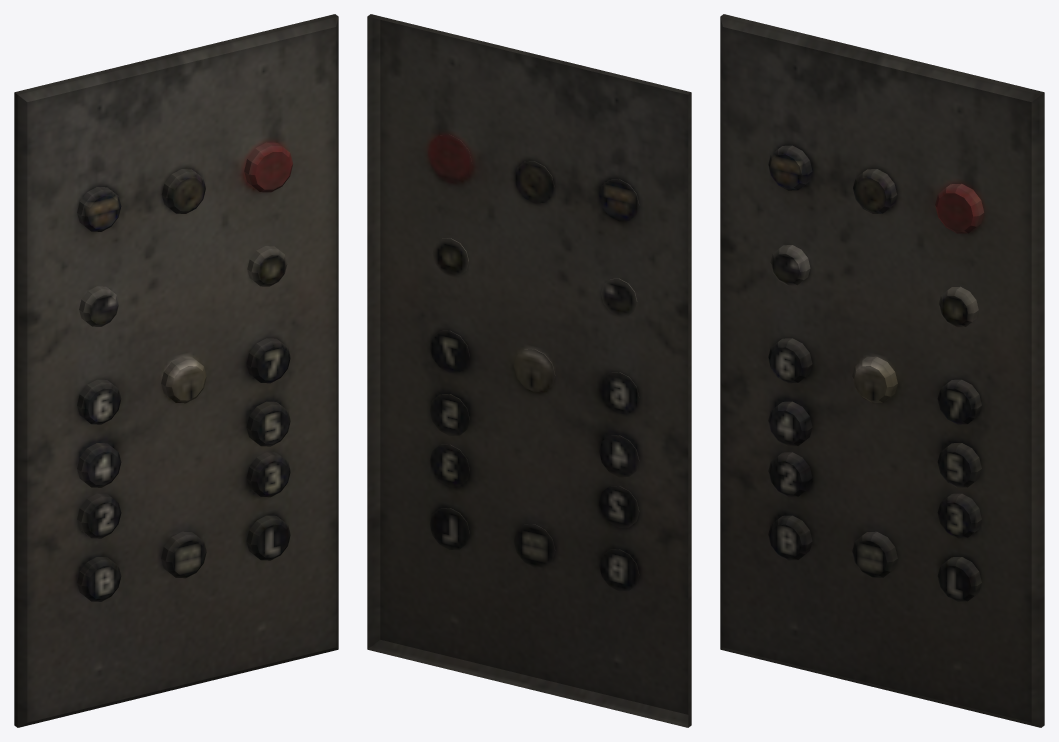
The model's file is elevator_buttons_1.fbx.
The picture shows the model from 3 angles, left to right: view 1: azimuth 30°, elevation 25°; view 2: azimuth 150°, elevation 25°; view 3: azimuth 330°, elevation 25°; orthographic projection.
Visible parts, largest first — view 1: elevator_buttons_1; view 2: elevator_buttons_1; view 3: elevator_buttons_1.
Part boxes in pixels (x1,y1,x2,y2): elevator_buttons_1: (14, 14, 338, 727); elevator_buttons_1: (367, 14, 691, 727); elevator_buttons_1: (720, 14, 1044, 727).
Bounding box in the file's own units: 26.52 × 50 × 1.98.
